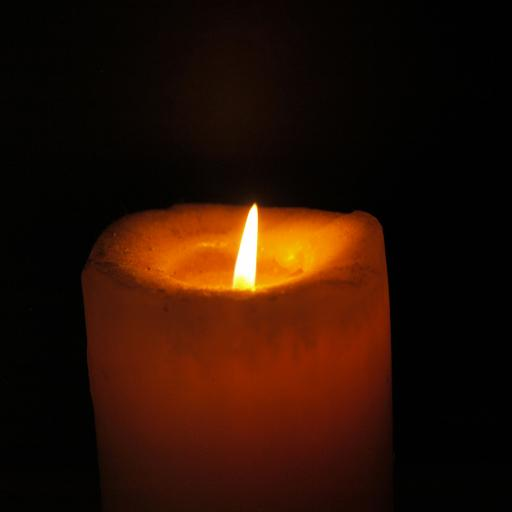candlelight: (107, 152, 393, 494)
